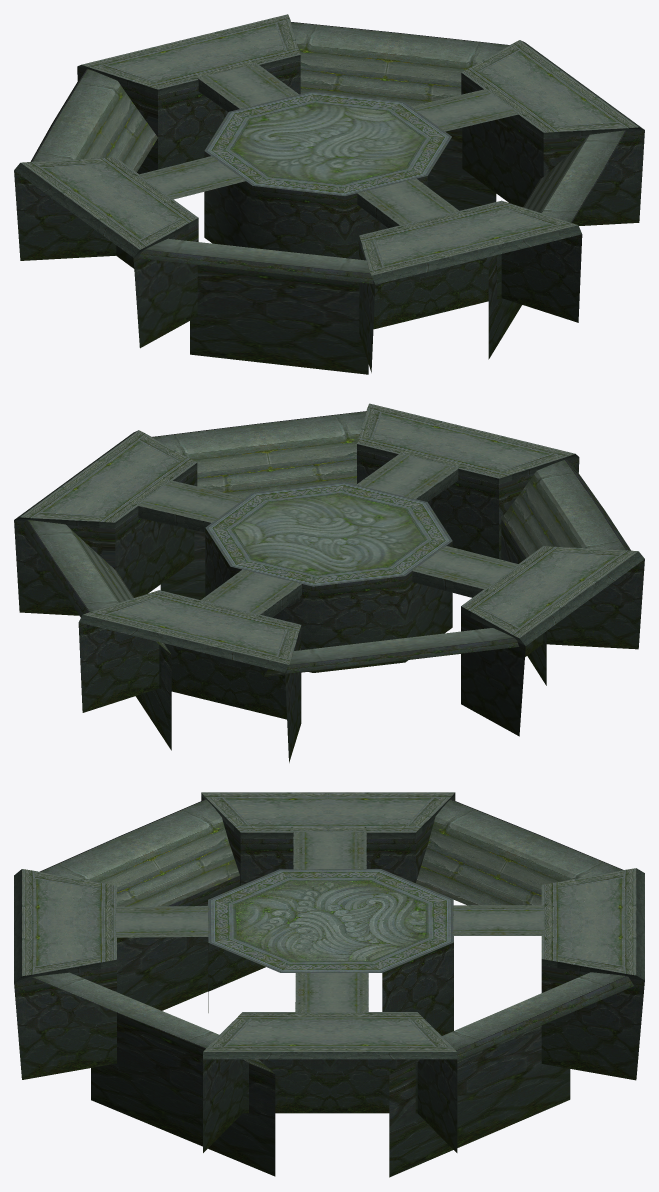
The model's file is zc_erhai_taizi01.FBX.
3 views of the same model, one above another, from view 1: azimuth 30°, elevation 25°; view 2: azimuth 150°, elevation 25°; view 3: azimuth 270°, elevation 25° (orthographic). The views are drawn at different scales.
Parts seen in each view (by area): view 1: zc_erhai_taizi01; view 2: zc_erhai_taizi01; view 3: zc_erhai_taizi01.
Boxes of the visible parts, x1,y1,x2,y2 form: zc_erhai_taizi01: (14, 14, 644, 374); zc_erhai_taizi01: (14, 403, 644, 762); zc_erhai_taizi01: (14, 792, 644, 1177).
Size of the model in its own units: 1746 by 475 by 1751.
